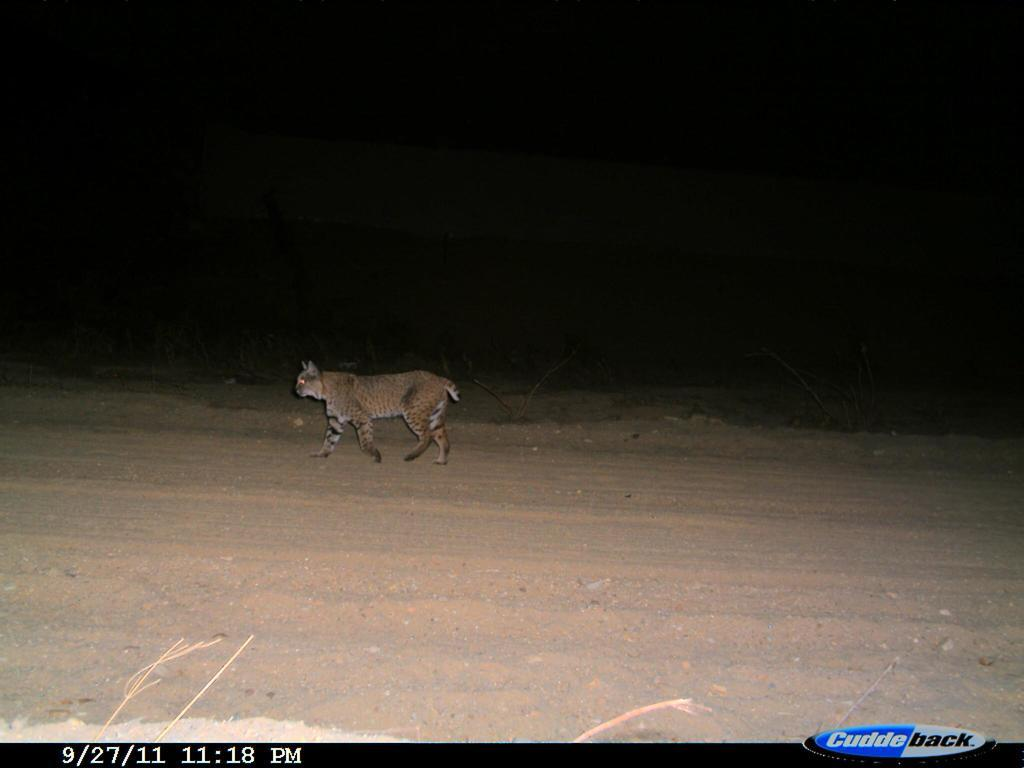bobcat: (290, 341, 469, 477)
